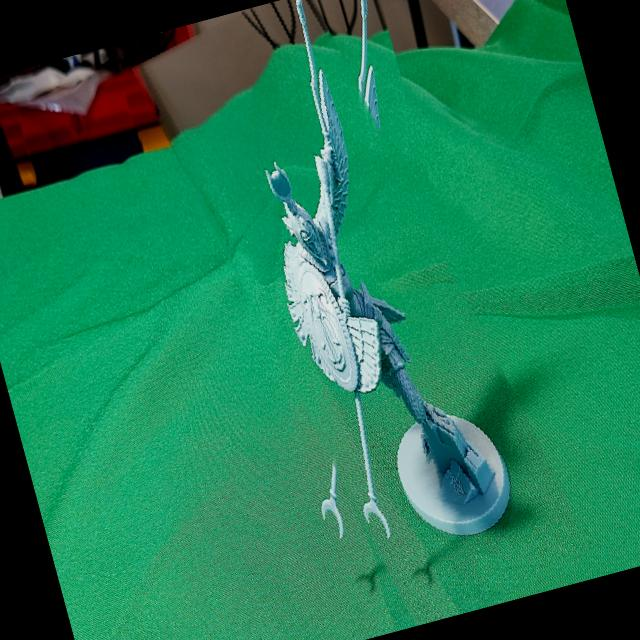isis: (155, 0, 569, 640)
